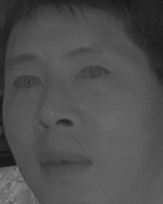eye: (72, 63, 110, 84), (10, 72, 45, 94)
mouth: (34, 143, 94, 180)
